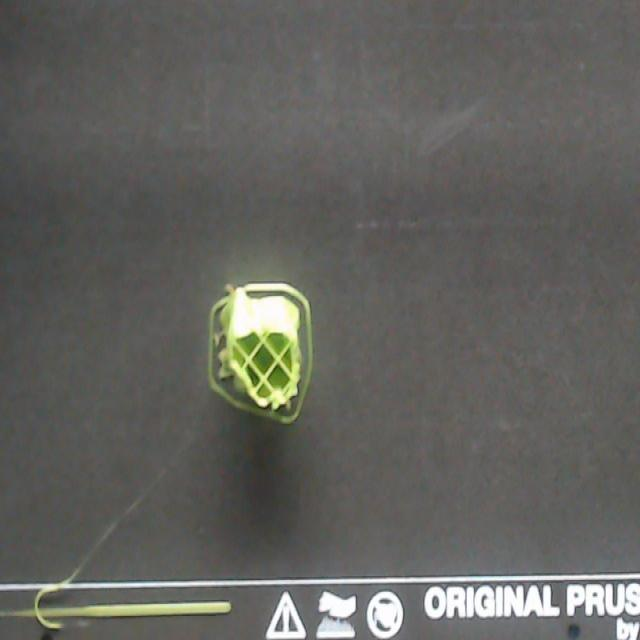mistake: (32, 553, 89, 631), (96, 521, 118, 544), (213, 333, 225, 349), (225, 286, 234, 293)
